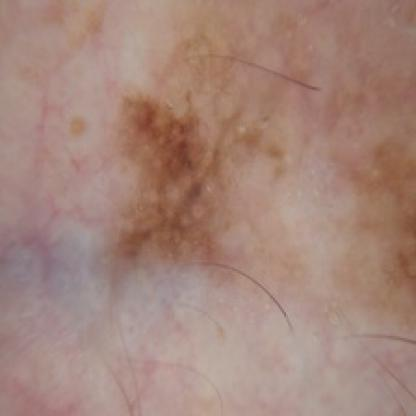malignant: (52, 85, 290, 286)
